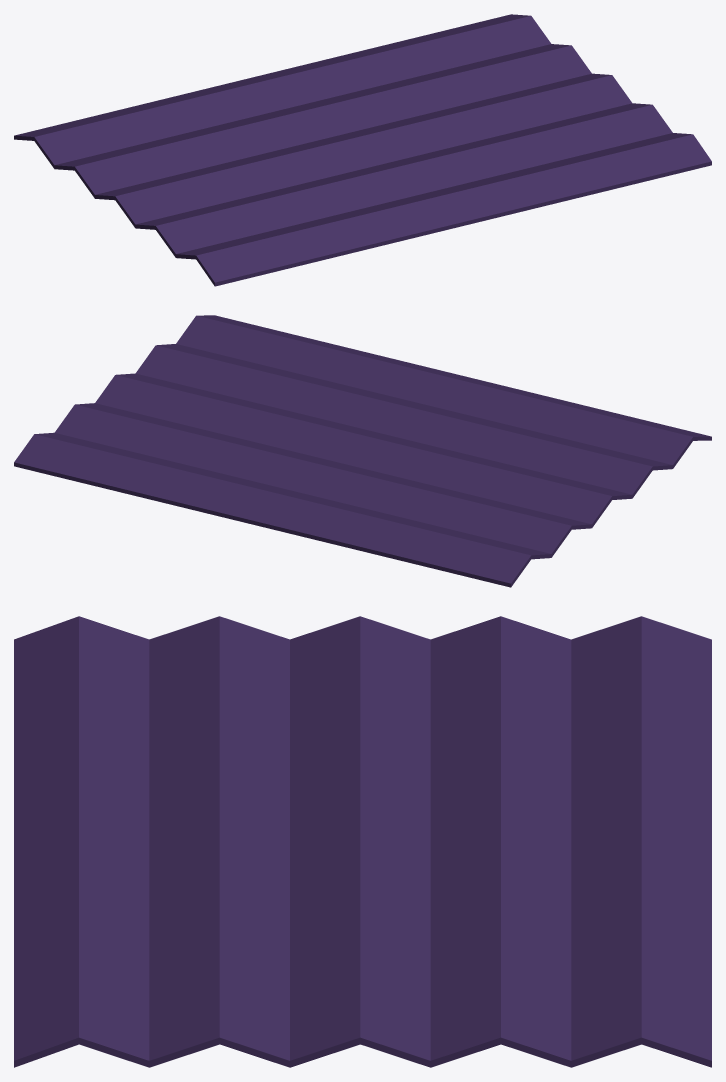
Rendered from SheetMetal_D_1.fbx.
The picture shows the model from 3 angles, top to bottom: view 1: azimuth 30°, elevation 25°; view 2: azimuth 150°, elevation 25°; view 3: azimuth 270°, elevation 25°; orthographic projection. The views are drawn at different scales.
Parts seen in each view (by area): view 1: SheetMetal_D_1; view 2: SheetMetal_D_1; view 3: SheetMetal_D_1.
Boxes of the visible parts, x1,y1,x2,y2 form: SheetMetal_D_1: [14, 14, 711, 286]; SheetMetal_D_1: [14, 315, 711, 587]; SheetMetal_D_1: [14, 616, 711, 1067].
Bounding box in the file's own units: 137 × 4.58 × 96.05.
